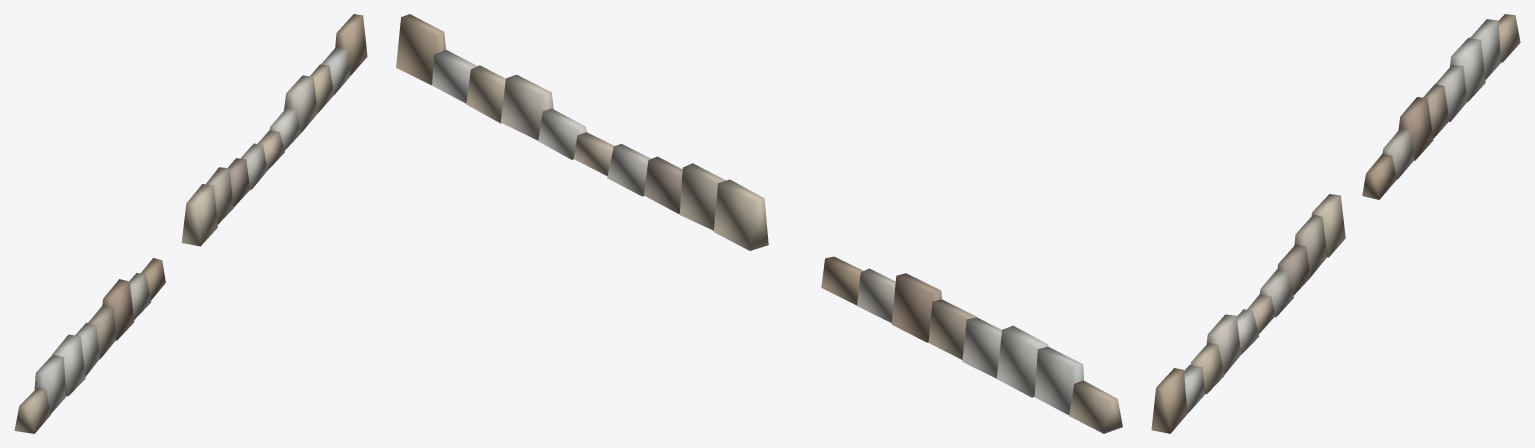
File: farm_-43_-35_far.glb
3 views of the same model, side by side, from view 1: azimuth 90°, elevation 25°; view 2: azimuth 150°, elevation 25°; view 3: azimuth 270°, elevation 25° (orthographic). The views are drawn at different scales.
Parts seen in each view (by area): view 1: geometry_0; view 2: geometry_0; view 3: geometry_0.
Part boxes in pixels (x1=…): geometry_0: x1=14, y1=14, x2=367, y2=433; geometry_0: x1=396, y1=14, x2=1122, y2=433; geometry_0: x1=1151, y1=14, x2=1520, y2=433.
Bounding box in the file's own units: 29.77 × 1.63 × 11.75.
